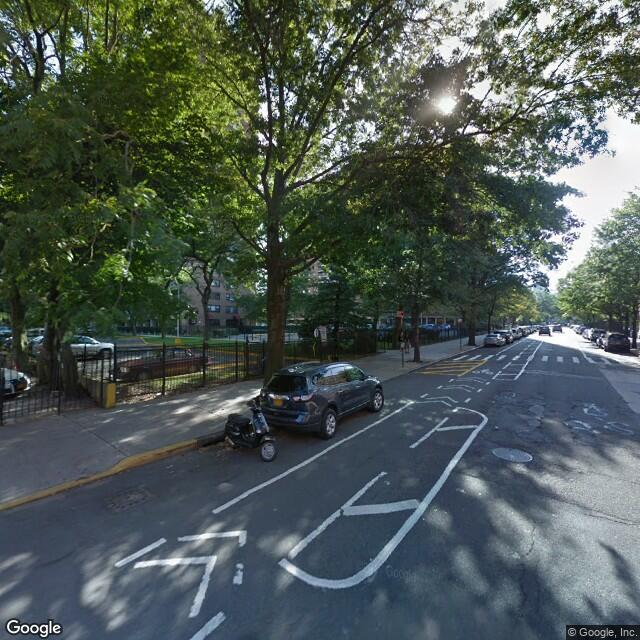litter: (490, 420, 501, 435)
